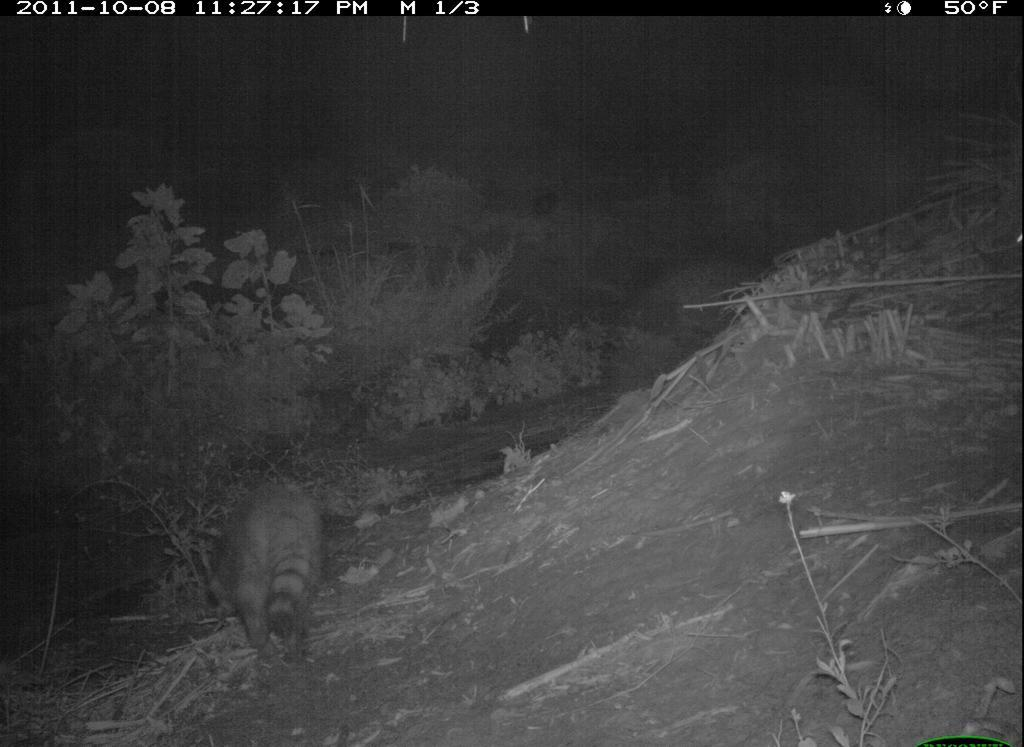raccoon: (201, 470, 331, 665)
